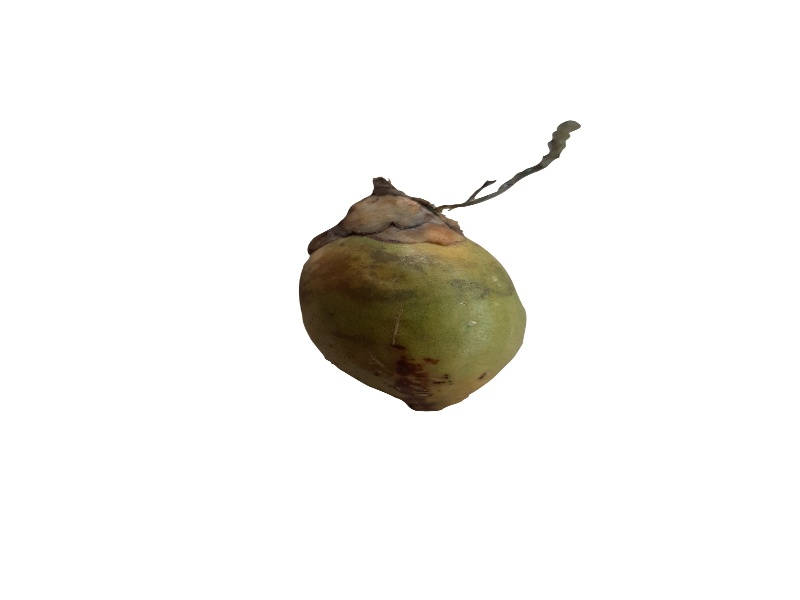arecanut: (288, 174, 535, 421)
